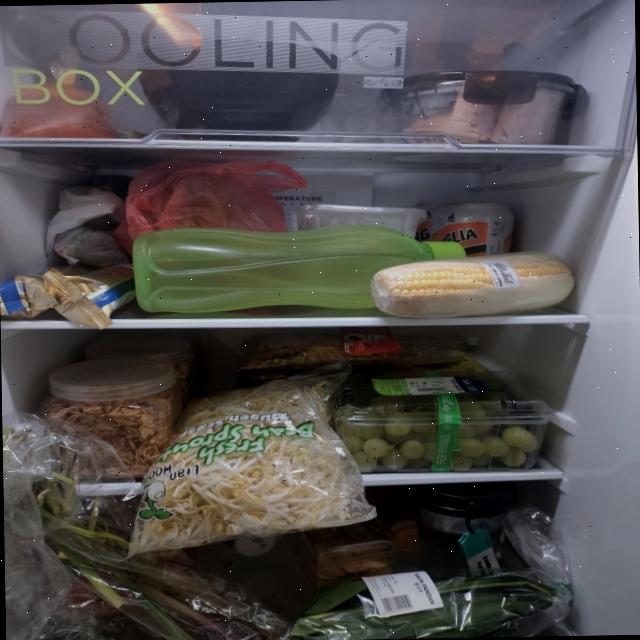bean_sprouts: (126, 379, 368, 554)
corn: (369, 248, 576, 320)
grape: (338, 390, 538, 473)
leafy_greens: (287, 571, 558, 640)
spring_onion: (2, 422, 290, 640)
unknown_bag: (109, 156, 309, 258)
